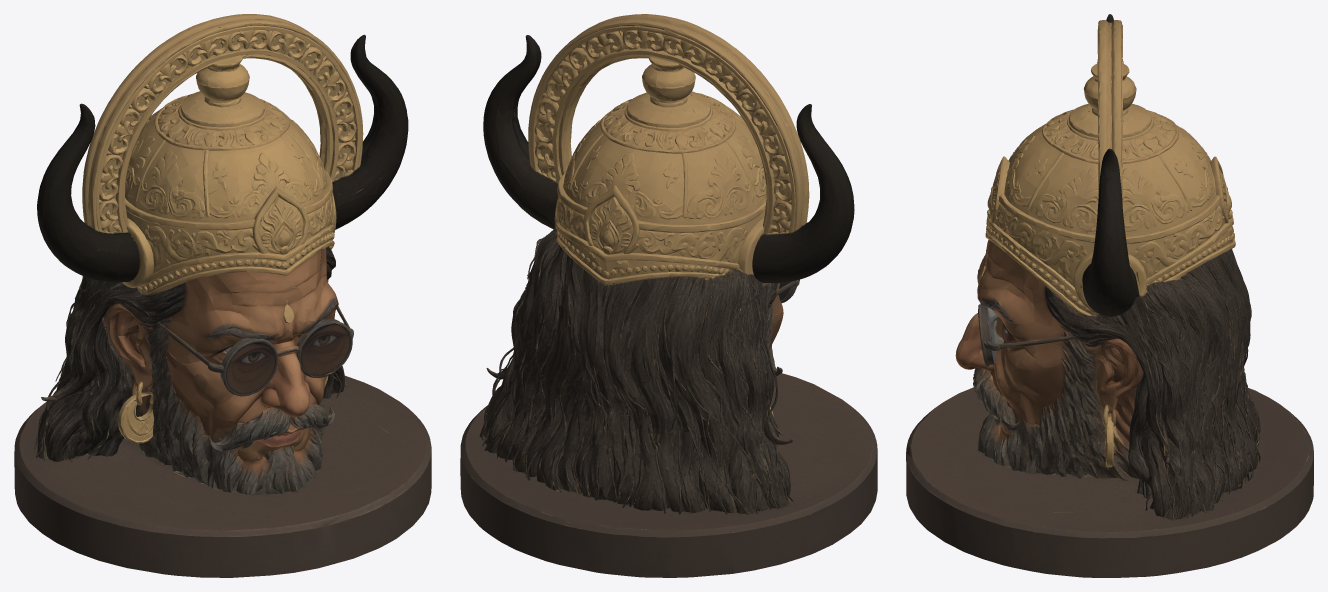
File: head-sage.glb
The picture shows the model from 3 angles, left to right: view 1: azimuth 30°, elevation 25°; view 2: azimuth 150°, elevation 25°; view 3: azimuth 270°, elevation 25°; orthographic projection. The views are drawn at different scales.
Parts seen in each view (by area): view 1: mesh_node; view 2: mesh_node; view 3: mesh_node.
Boxes of the visible parts, x1,y1,x2,y2 form: mesh_node: (14,14,431,577); mesh_node: (460,14,877,577); mesh_node: (906,14,1313,577).
Bounding box in the file's own units: 1.56 × 1.9 × 1.54.
1 material, 1 textured.
